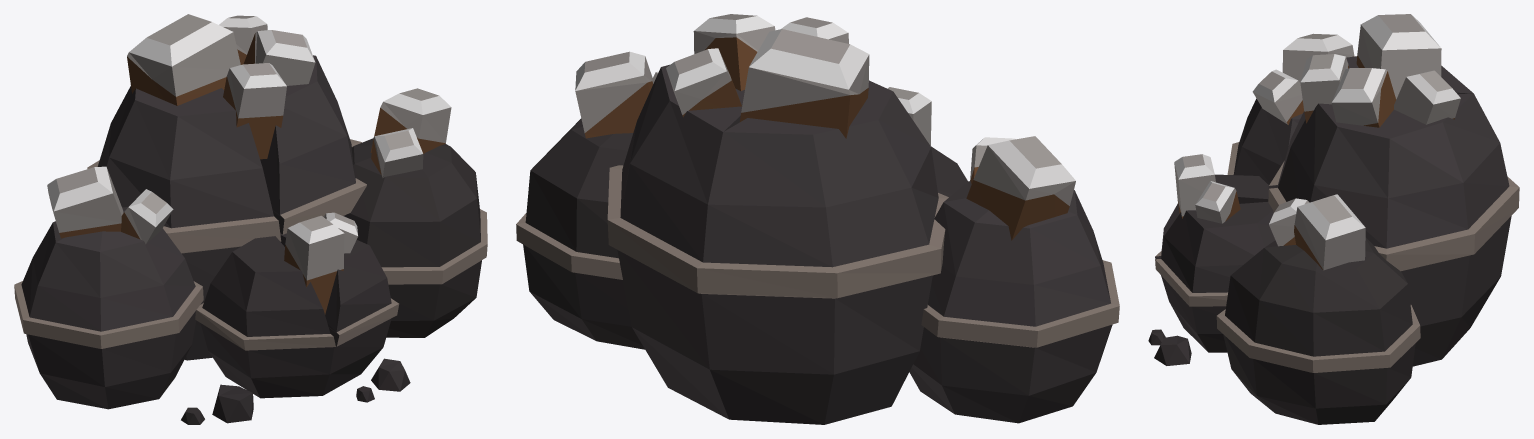
File: iron_ore_deposit.glb
3 renders of one model, left to right at view 1: azimuth 30°, elevation 25°; view 2: azimuth 150°, elevation 25°; view 3: azimuth 270°, elevation 25°, orthographic. The views are drawn at different scales.
Parts seen in each view (by area): view 1: iron-ore-deposit-body; view 2: iron-ore-deposit-body; view 3: iron-ore-deposit-body.
Part boxes in pixels (bbox=[...]): iron-ore-deposit-body: bbox=[14, 14, 487, 424]; iron-ore-deposit-body: bbox=[516, 14, 1119, 424]; iron-ore-deposit-body: bbox=[1148, 14, 1519, 424].
Bounding box in the file's own units: 1.64 × 0.9926 × 1.14.
